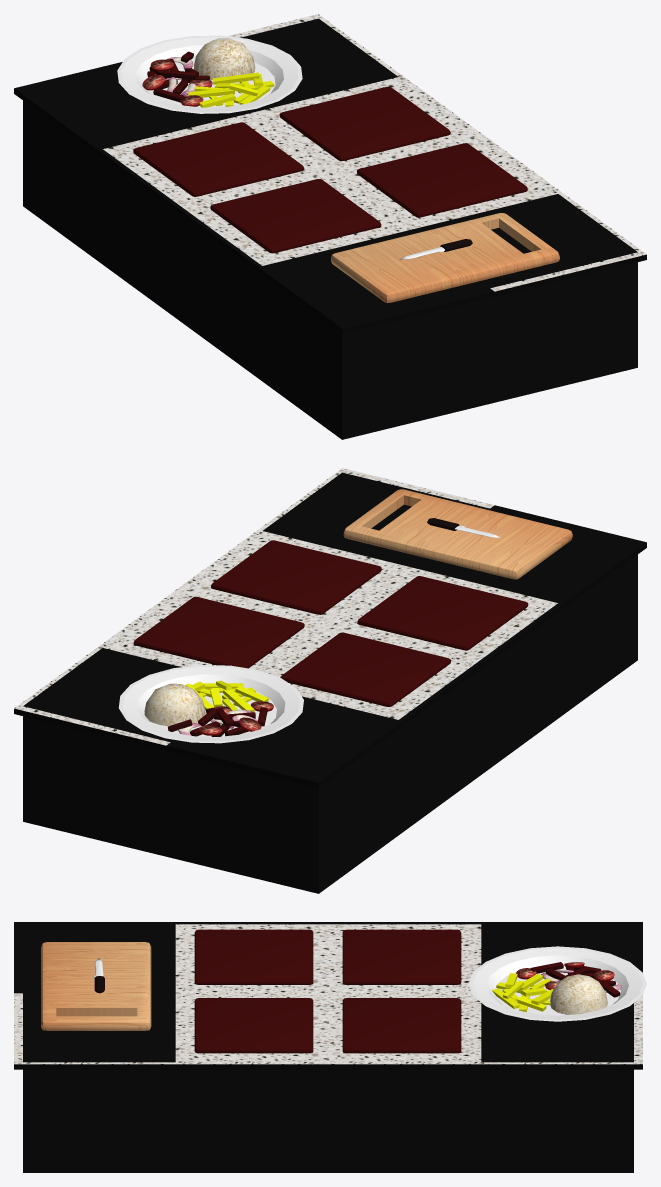
File: MESACENTRAL.fbx
3 renders of one model, top to bottom at view 1: azimuth 30°, elevation 25°; view 2: azimuth 150°, elevation 25°; view 3: azimuth 270°, elevation 25°, orthographic. The views are drawn at different scales.
Visible parts, largest first — view 1: Box014, Box015, CUTTINGZONA_PRP_003, CUTTINGZONA_PRP_001, CUTTINGZONA_PRP_004, CUTTINGZONA_PRP_002, PLATO_PRP, LOMO SALTADO COMPLETO_PRP; view 2: Box014, Box015, CUTTINGZONA_PRP_001, CUTTINGZONA_PRP_002, CUTTINGZONA_PRP_004, CUTTINGZONA_PRP_003, PLATO_PRP, LOMO SALTADO COMPLETO_PRP; view 3: Box014, Box015, CUTTINGZONA_PRP_001, CUTTINGZONA_PRP_003, CUTTINGZONA_PRP_002, CUTTINGZONA_PRP_004, PLATO_PRP, LOMO SALTADO COMPLETO_PRP.
Boxes of the visible parts, x1,y1,x2,y2 form: Box014: (14, 14, 646, 439); Box015: (331, 213, 559, 303); CUTTINGZONA_PRP_003: (279, 86, 450, 161); CUTTINGZONA_PRP_001: (357, 143, 527, 217); CUTTINGZONA_PRP_004: (133, 122, 304, 196); CUTTINGZONA_PRP_002: (210, 179, 381, 253); PLATO_PRP: (117, 35, 302, 113); LOMO SALTADO COMPLETO_PRP: (142, 38, 274, 107); Box014: (14, 468, 646, 893); Box015: (343, 489, 572, 579); CUTTINGZONA_PRP_001: (211, 540, 381, 614); CUTTINGZONA_PRP_002: (357, 576, 528, 650); CUTTINGZONA_PRP_004: (280, 632, 450, 706); CUTTINGZONA_PRP_003: (133, 596, 304, 668); PLATO_PRP: (118, 665, 303, 743); LOMO SALTADO COMPLETO_PRP: (144, 680, 273, 736); Box014: (14, 922, 642, 1172); Box015: (41, 942, 151, 1030); CUTTINGZONA_PRP_001: (194, 998, 313, 1053); CUTTINGZONA_PRP_003: (342, 998, 461, 1053); CUTTINGZONA_PRP_002: (194, 929, 313, 984); CUTTINGZONA_PRP_004: (342, 929, 461, 984); PLATO_PRP: (468, 946, 646, 1021); LOMO SALTADO COMPLETO_PRP: (492, 962, 621, 1014).
Size of the model in its own units: 127 by 57.66 by 240.
14 materials, 6 textured.
